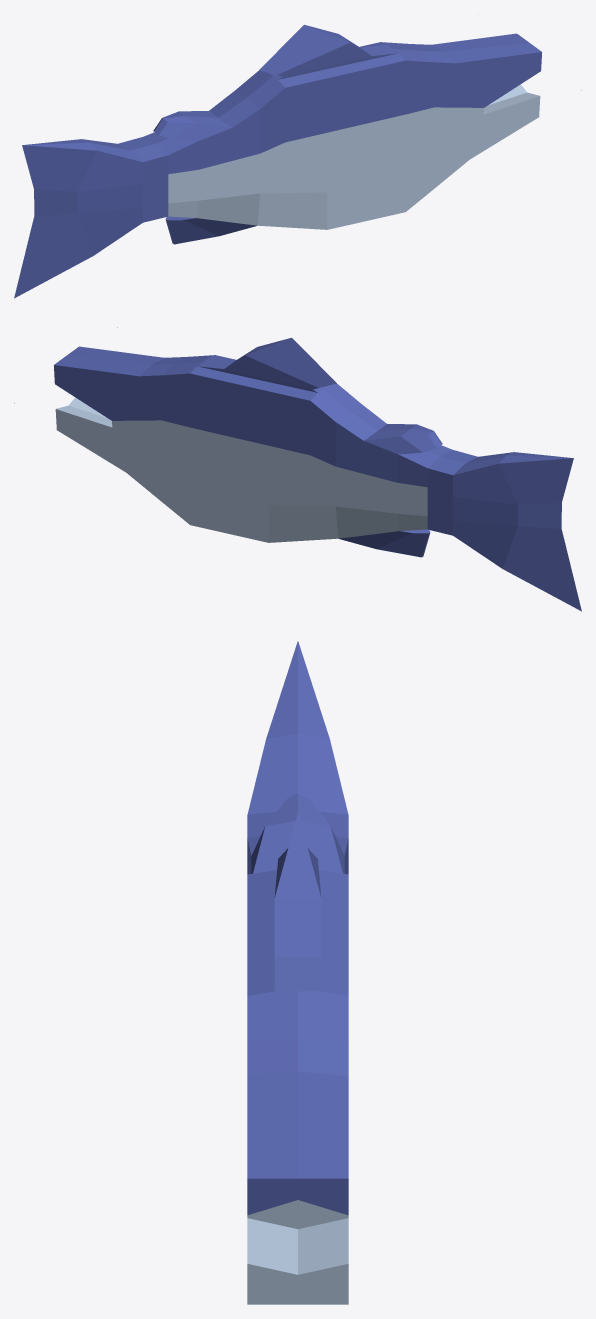
File: Fish.fbx
The picture shows the model from 3 angles, top to bottom: view 1: azimuth 30°, elevation 25°; view 2: azimuth 150°, elevation 25°; view 3: azimuth 270°, elevation 25°; orthographic projection. The views are drawn at different scales.
Parts seen in each view (by area): view 1: Fish; view 2: Fish; view 3: Fish.
Part boxes in pixels (<box>): Fish: <box>14,14,581,298</box>; Fish: <box>14,327,581,611</box>; Fish: <box>247,641,348,1304</box>.
Bounding box in the file's own units: 155 × 58.24 × 53.48.
